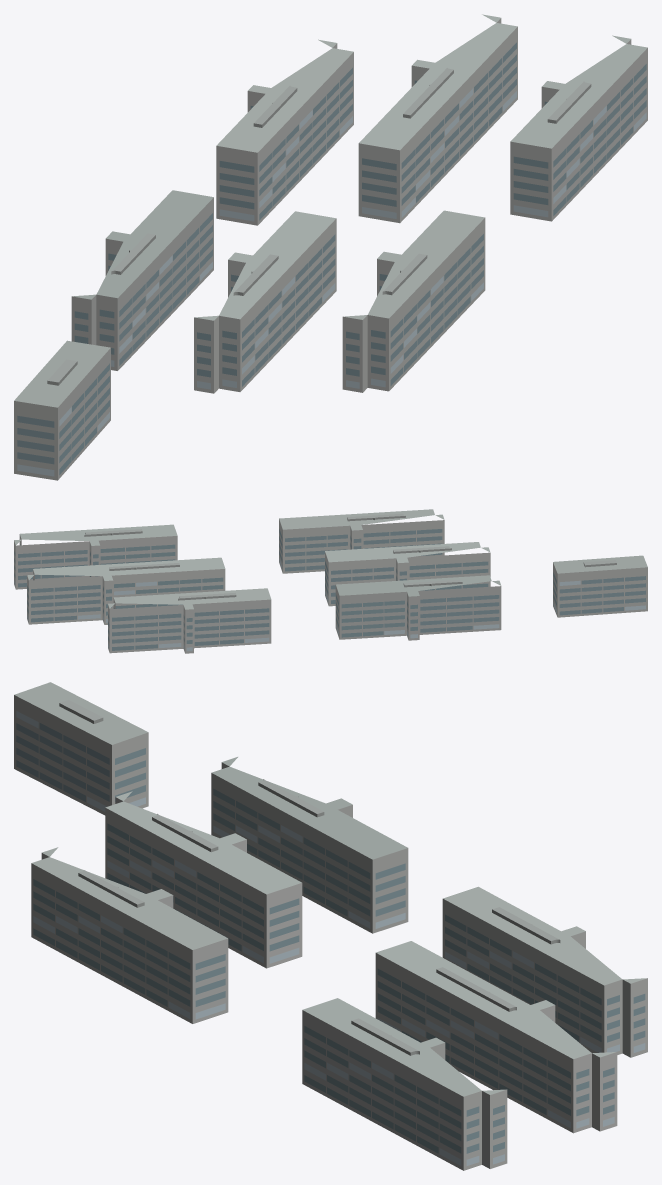
Rendered from apt-a13790002.glb.
The picture shows the model from 3 angles, top to bottom: view 1: azimuth 30°, elevation 25°; view 2: azimuth 150°, elevation 25°; view 3: azimuth 270°, elevation 25°; orthographic projection. The views are drawn at different scales.
Visible parts, largest first — view 1: apt-a13790002; view 2: apt-a13790002; view 3: apt-a13790002.
Boxes of the visible parts, box(x1,y1,x2,y2) form: apt-a13790002: box(14, 14, 647, 480); apt-a13790002: box(14, 509, 647, 653); apt-a13790002: box(14, 682, 647, 1170).
Bounding box in the file's own units: 220 × 19.12 × 142.
